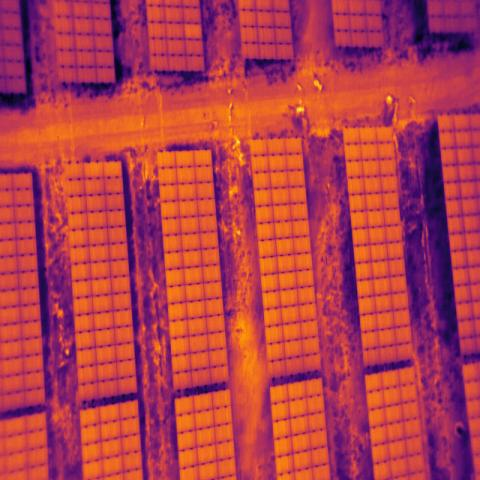fault: (185, 23, 202, 39)
